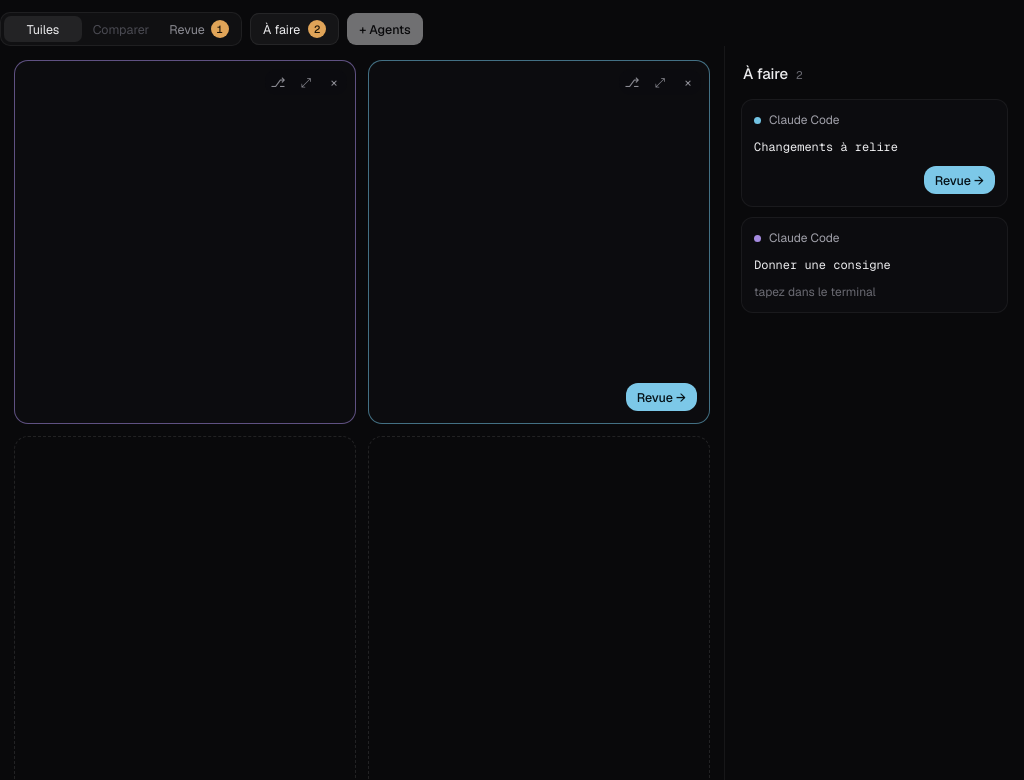
Test case: Review (002 T018, US1) › waits for the snapshot of the agent reviewed, not showing another one
The image size is (1024, 780).
Click the 2nd button "Revue →" at x=661, y=397, box top-left (626, 383), bottom-right (697, 411)
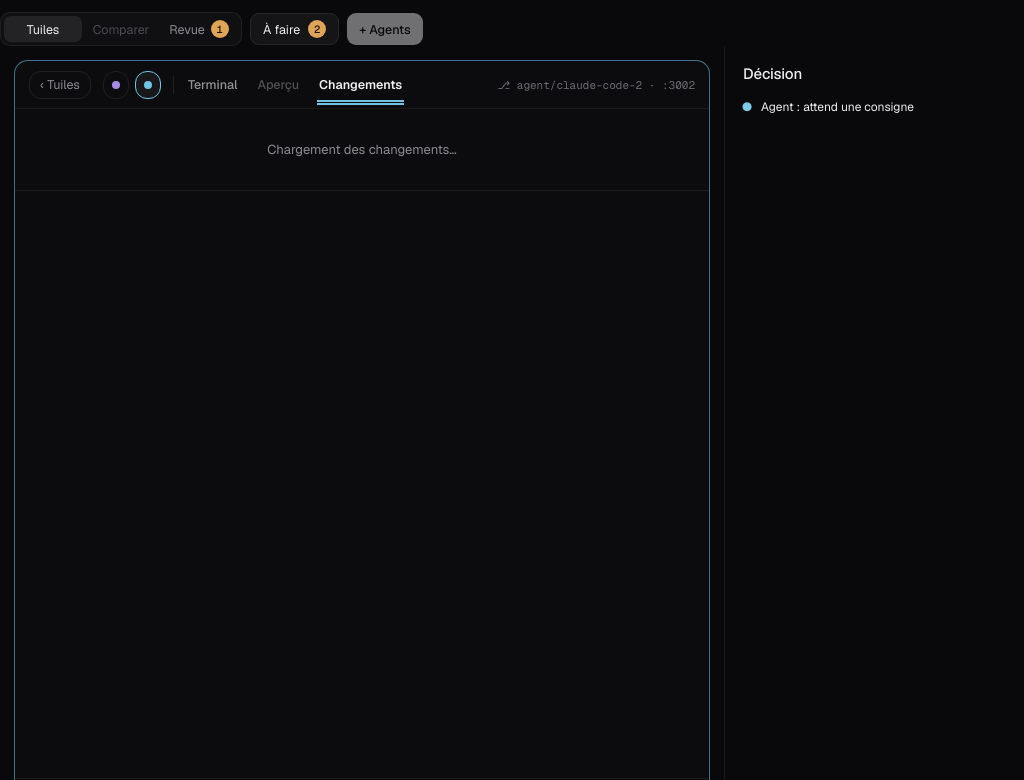
Check: the text "Chargement des changements…" is shown, box top-left (267, 141), bottom-right (457, 158)
